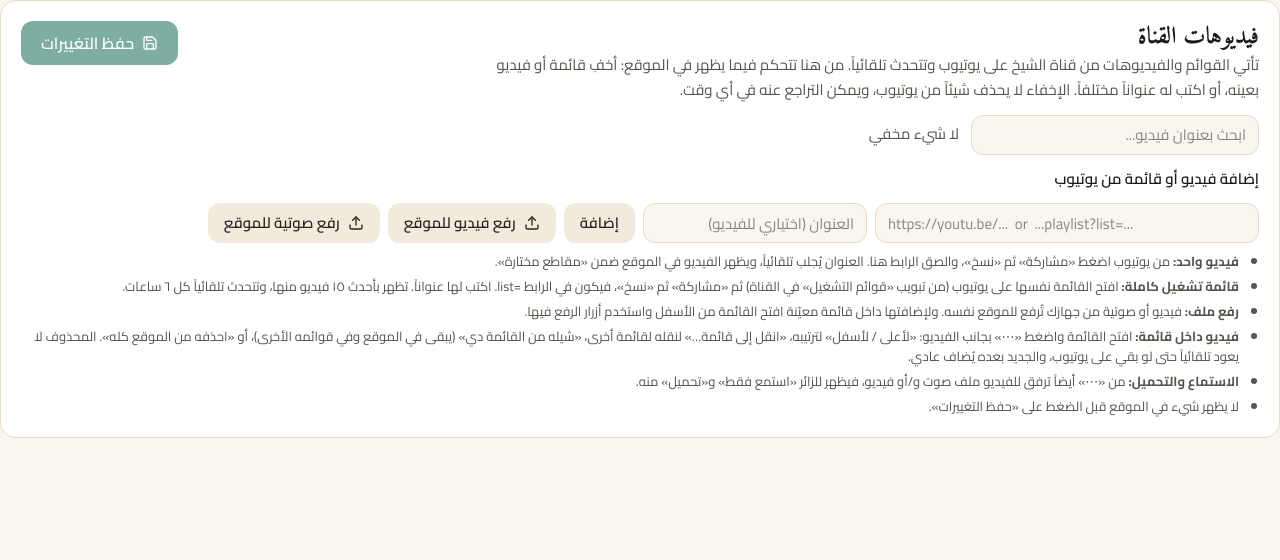
Test: YoutubeManager › shows the message when saving fails
Type "https://www.youtube.com/playlist?list=PLabcdefghijklmnop" into the field named "رابط الفيديو أو القائمة" at (1067, 223), box [875,203,1259,243]
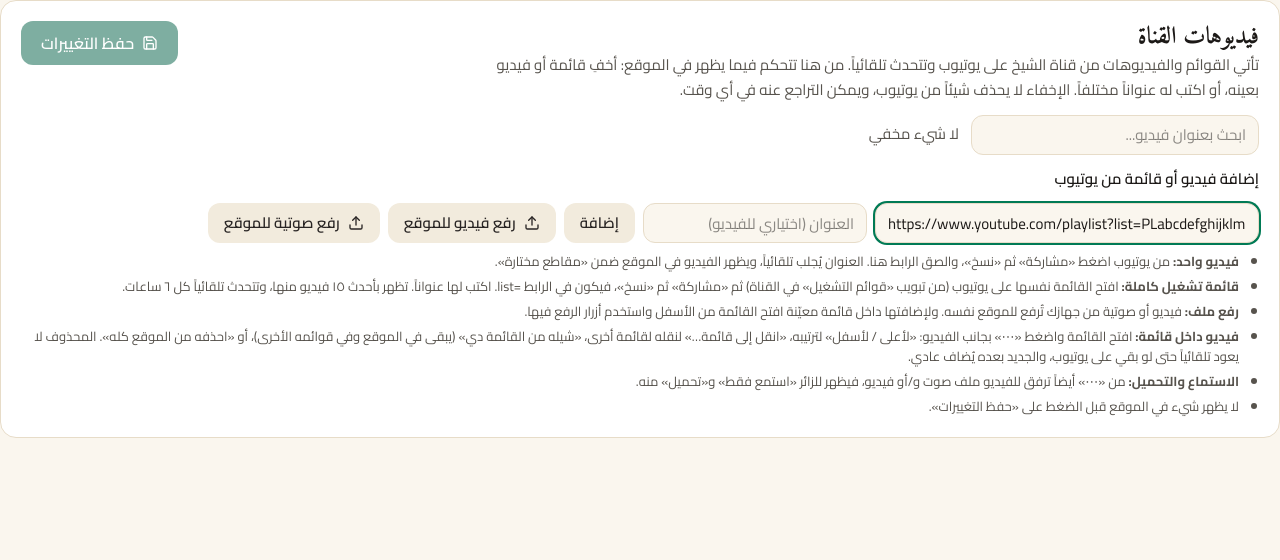
Type "سلسلة" into the field labelled "العنوان" at (755, 223), box [643,203,867,243]
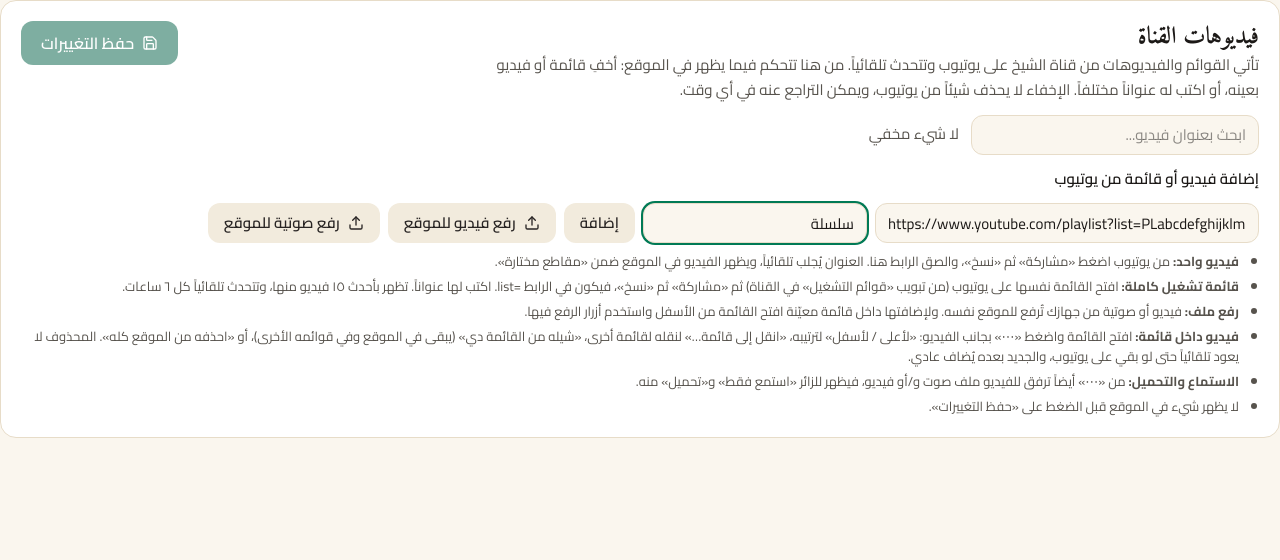
Click the button "إضافة" at (599, 223), box [564,203,635,243]
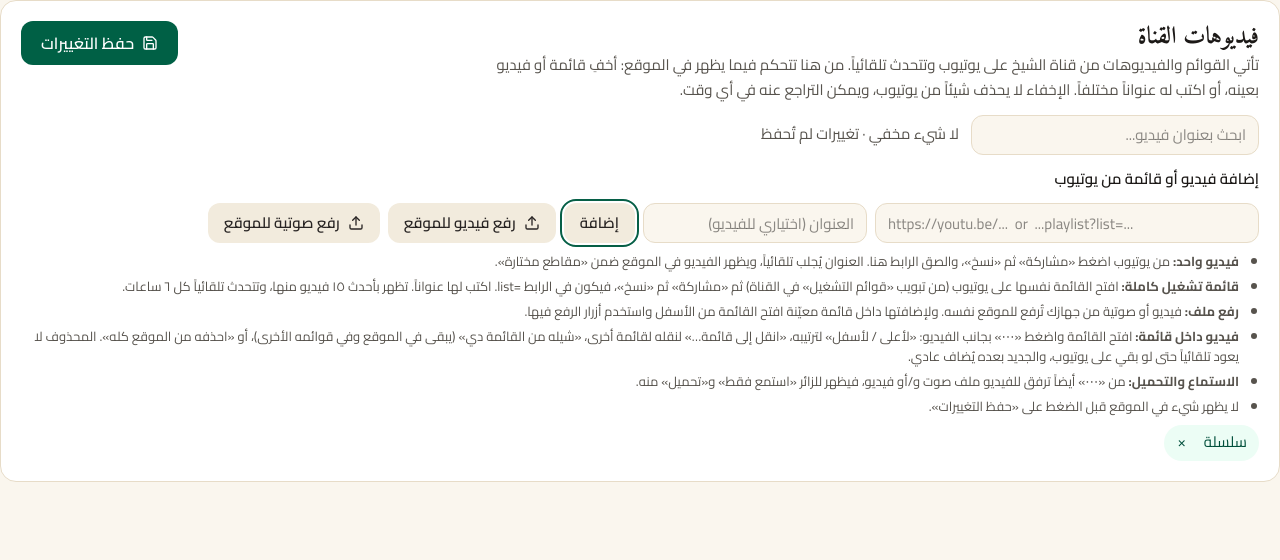
Click the button "حفظ التغييرات" at (100, 43), box [21,21,178,65]
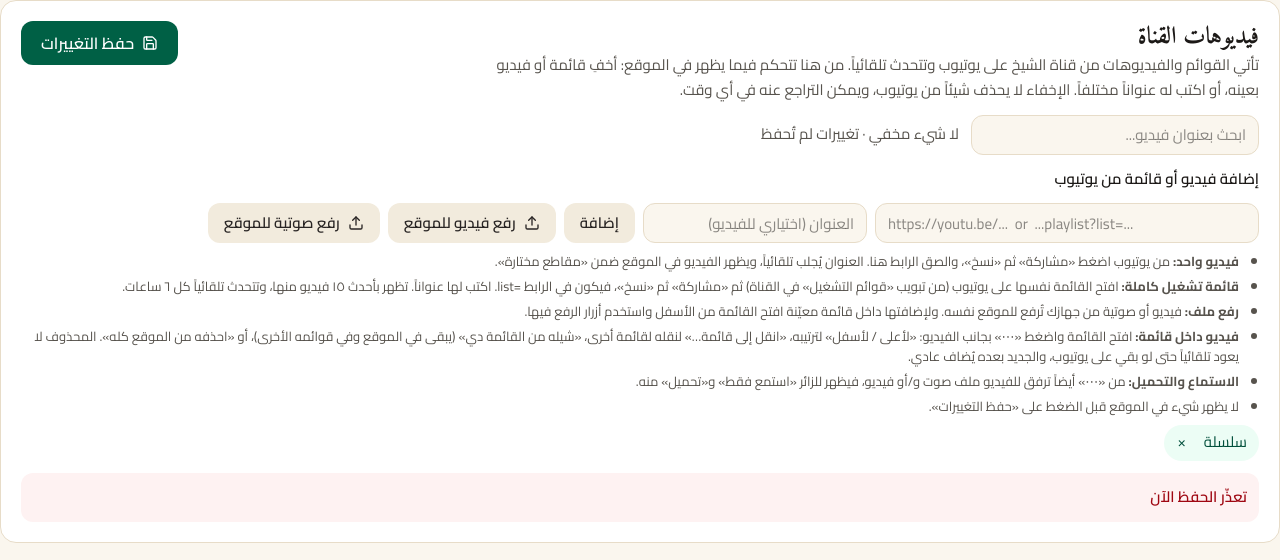
expect the message reads "تعذّر الحفظ الآن": met, box [1150,482,1247,511]
